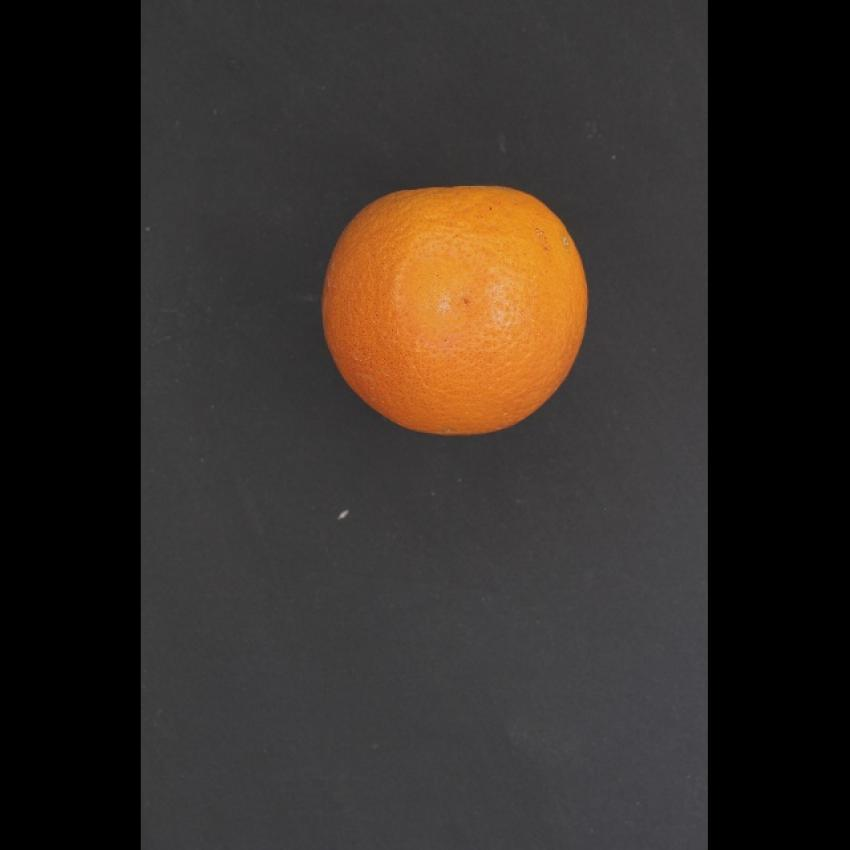Mal estado: (315, 175, 598, 443)
